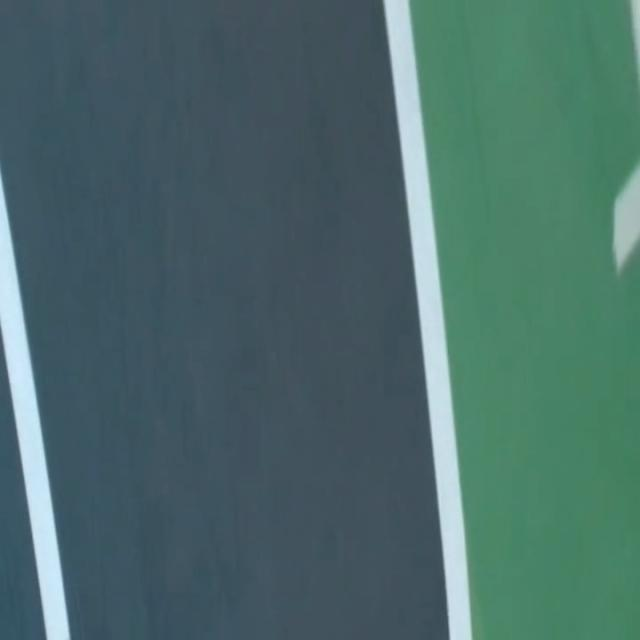center: (0, 168, 70, 639)
right: (383, 0, 471, 639)
